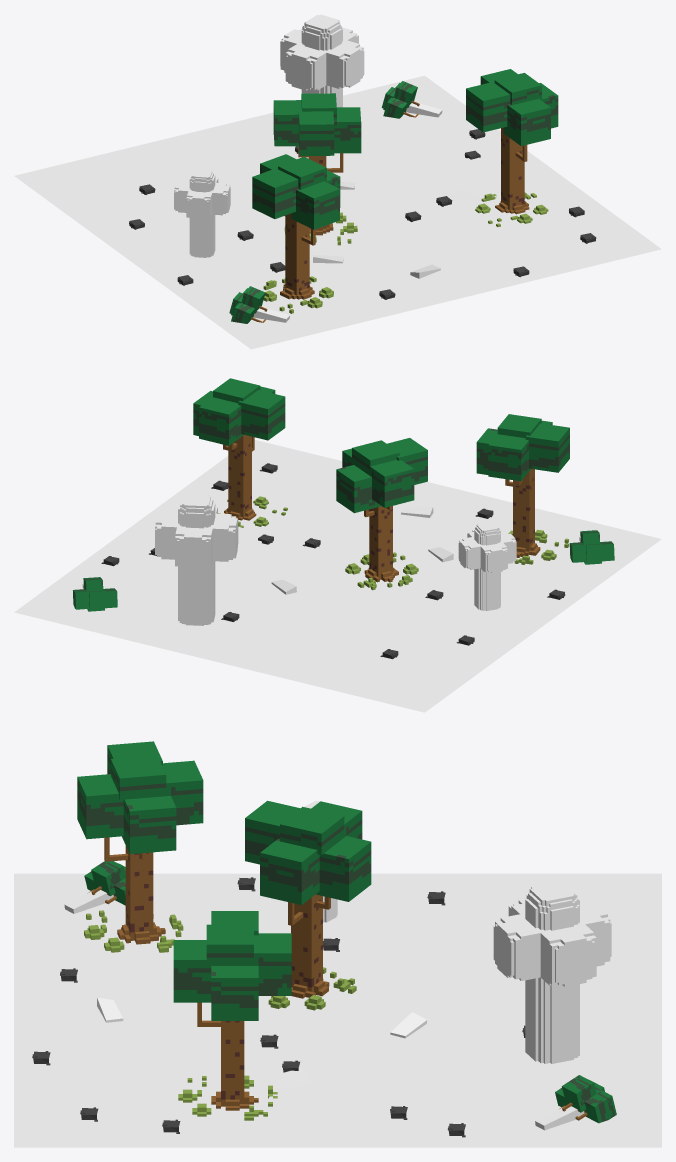
Rendered from centerchunk.glb.
3 renders of one model, top to bottom at view 1: azimuth 30°, elevation 25°; view 2: azimuth 150°, elevation 25°; view 3: azimuth 270°, elevation 25°, orthographic. The views are drawn at different scales.
Parts seen in each view (by area): view 1: C, TREE 02.001, TREE 02.002, TREE 02, Object_3.001, Object_3.006, pond, Trunt_top, Trunt_top.001; view 2: C, TREE 02, TREE 02.002, TREE 02.001, Object_3.001, Object_3.006, Trunt_top.001, Trunt_top, pond; view 3: C, TREE 02, TREE 02.001, Object_3.001, TREE 02.002, pond, Trunt_top, Trunt_top.001.
Boxes of the visible parts, left/top/right/bottom form: C: left=14, top=75, right=661, bottom=349; TREE 02.001: left=252, top=154, right=340, bottom=313; TREE 02.002: left=466, top=69, right=558, bottom=226; TREE 02: left=273, top=93, right=361, bottom=245; Object_3.001: left=280, top=14, right=364, bottom=107; Object_3.006: left=174, top=169, right=230, bottom=257; pond: left=420, top=157, right=500, bottom=201; Trunt_top: left=381, top=81, right=442, bottom=118; Trunt_top.001: left=229, top=286, right=289, bottom=323; C: left=14, top=440, right=661, bottom=712; TREE 02: left=336, top=438, right=427, bottom=590; TREE 02.002: left=193, top=378, right=287, bottom=527; TREE 02.001: left=476, top=414, right=569, bottom=564; Object_3.001: left=155, top=494, right=238, bottom=625; Object_3.006: left=458, top=521, right=516, bottom=610; Trunt_top.001: left=569, top=530, right=614, bottom=564; Trunt_top: left=73, top=577, right=117, bottom=611; pond: left=151, top=526, right=261, bottom=562; C: left=14, top=873, right=661, bottom=1147; TREE 02: left=245, top=800, right=371, bottom=1010; TREE 02.001: left=77, top=741, right=203, bottom=952; Object_3.001: left=493, top=882, right=611, bottom=1063; TREE 02.002: left=173, top=911, right=291, bottom=1120; pond: left=268, top=1067, right=398, bottom=1124; Trunt_top: left=535, top=1075, right=616, bottom=1130; Trunt_top.001: left=64, top=861, right=125, bottom=913.
Size of the model in its own units: 221 by 72.23 by 221.
Materials: 10 (2 with a texture image).
